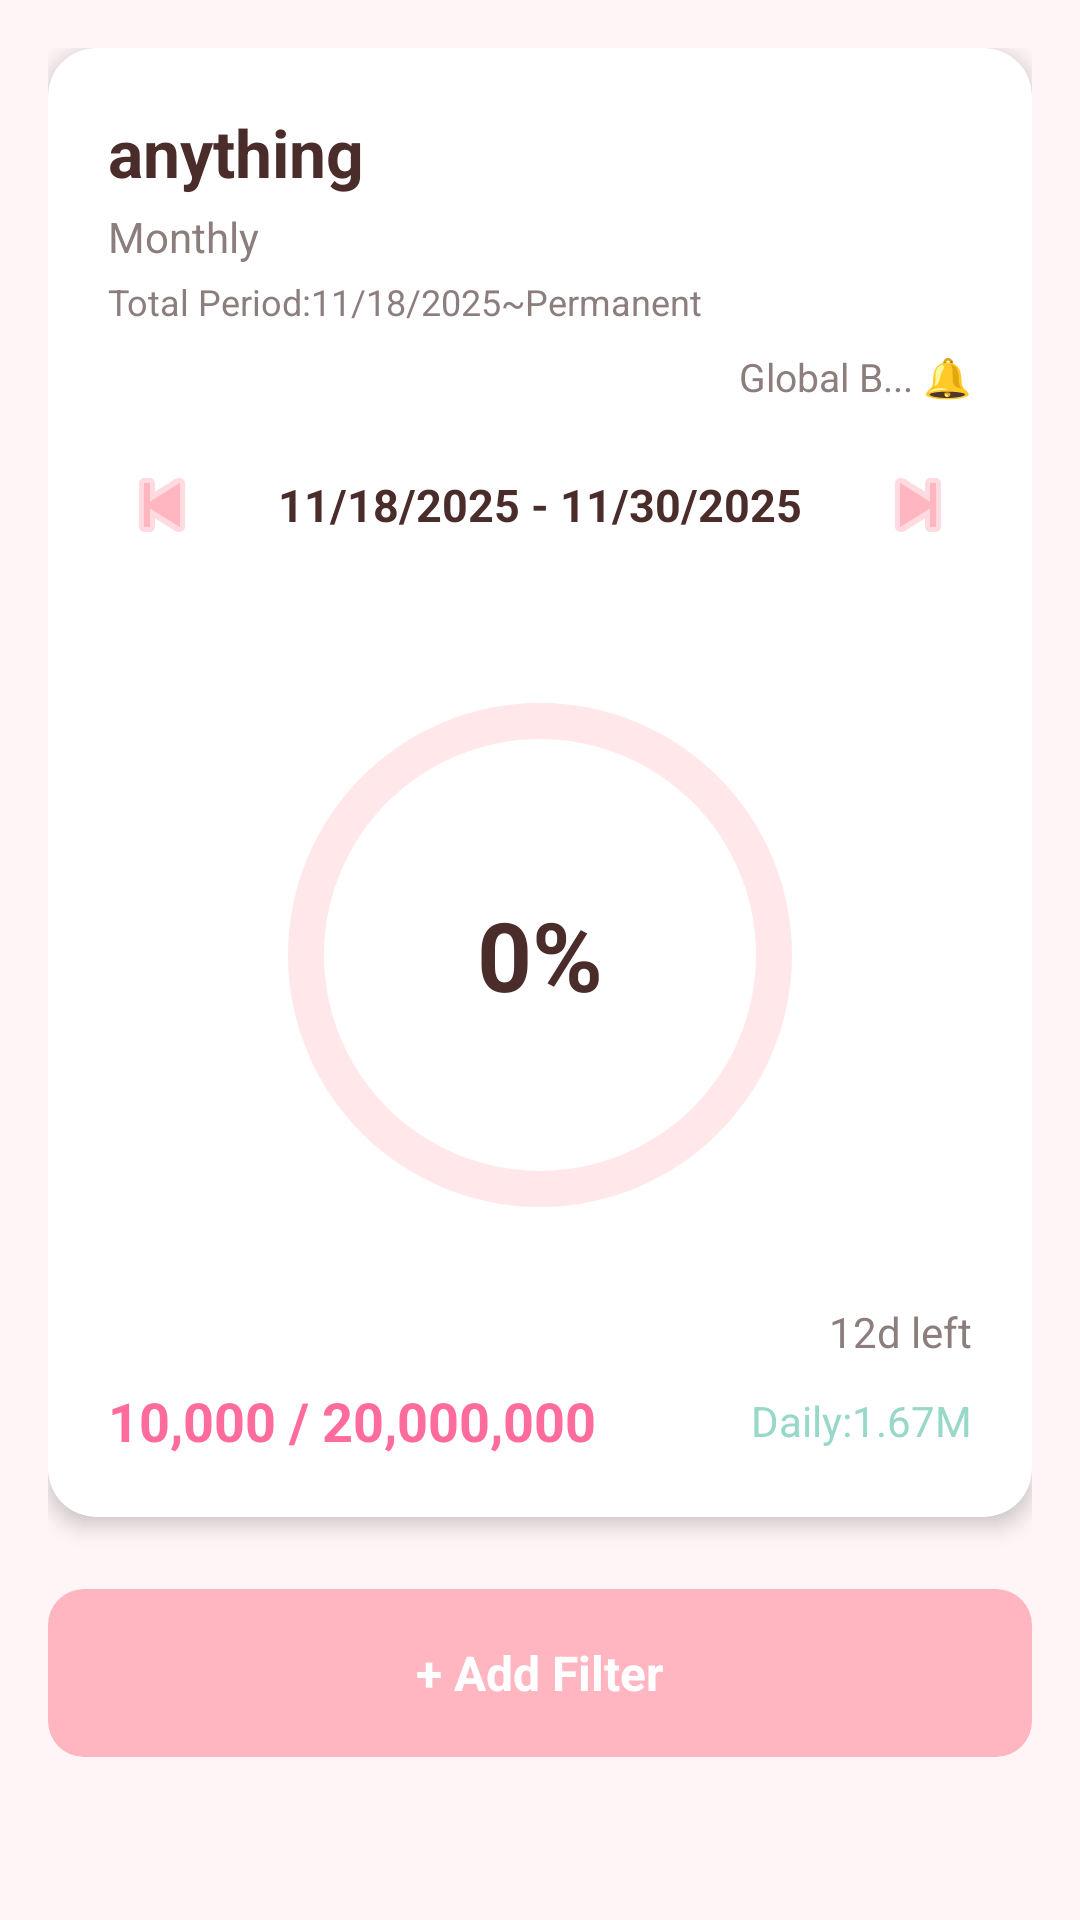

Icon click points for this 1080px x 1920px phone screenshot, format (x,y):
Next period: (918,505)
Previous period: (162,505)
